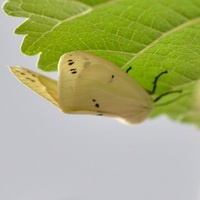insect: (10, 51, 181, 122)
